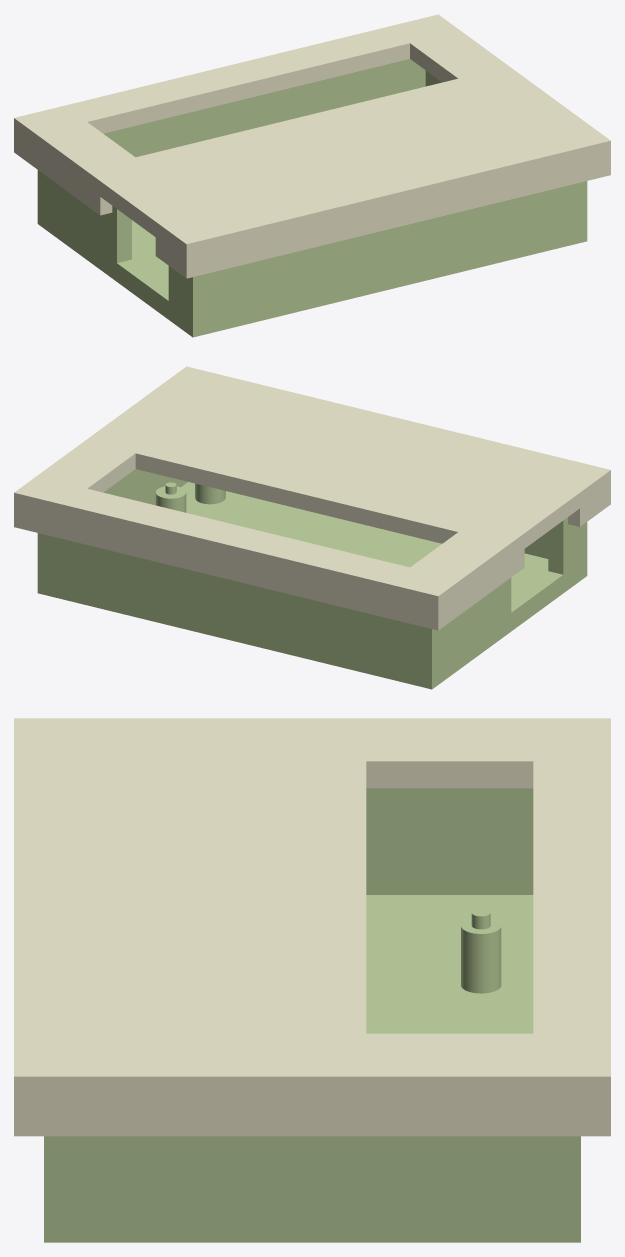
File: assembly.glb
The picture shows the model from 3 angles, top to bottom: view 1: azimuth 30°, elevation 25°; view 2: azimuth 150°, elevation 25°; view 3: azimuth 270°, elevation 25°; orthographic projection. The views are drawn at different scales.
Parts seen in each view (by area): view 1: Window cover, Pico prototype tray; view 2: Window cover, Pico prototype tray; view 3: Window cover, Pico prototype tray.
Boxes of the visible parts, x1,y1,x2,y2 form: Window cover: [14, 14, 610, 278]; Pico prototype tray: [37, 59, 587, 337]; Window cover: [14, 366, 610, 630]; Pico prototype tray: [37, 469, 587, 689]; Window cover: [14, 718, 610, 1136]; Pico prototype tray: [44, 788, 580, 1242].
Size of the model in its own units: 0.071 by 0.0165 by 0.05.
